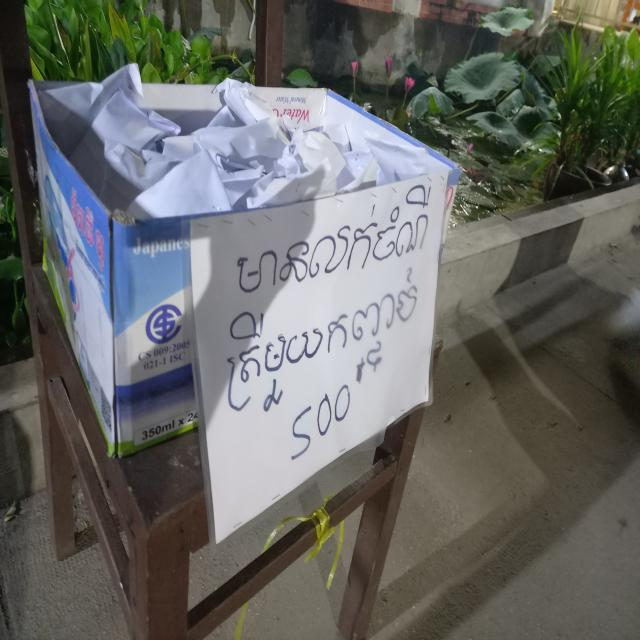776: (279, 380, 358, 469)
Yolov11kh: (219, 263, 428, 432), (230, 182, 434, 296)
